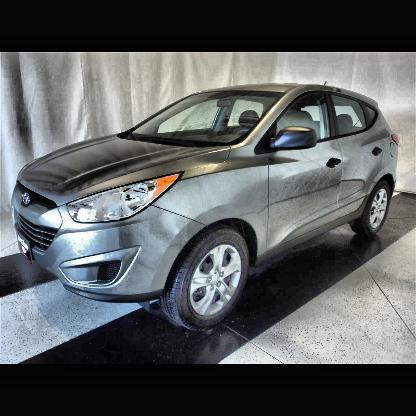Hyundai Tucson SUV 2012: (13, 82, 400, 326)
